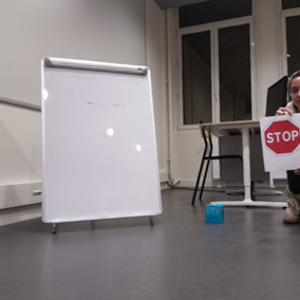big: (39, 55, 165, 225)
small: (205, 204, 225, 224)
